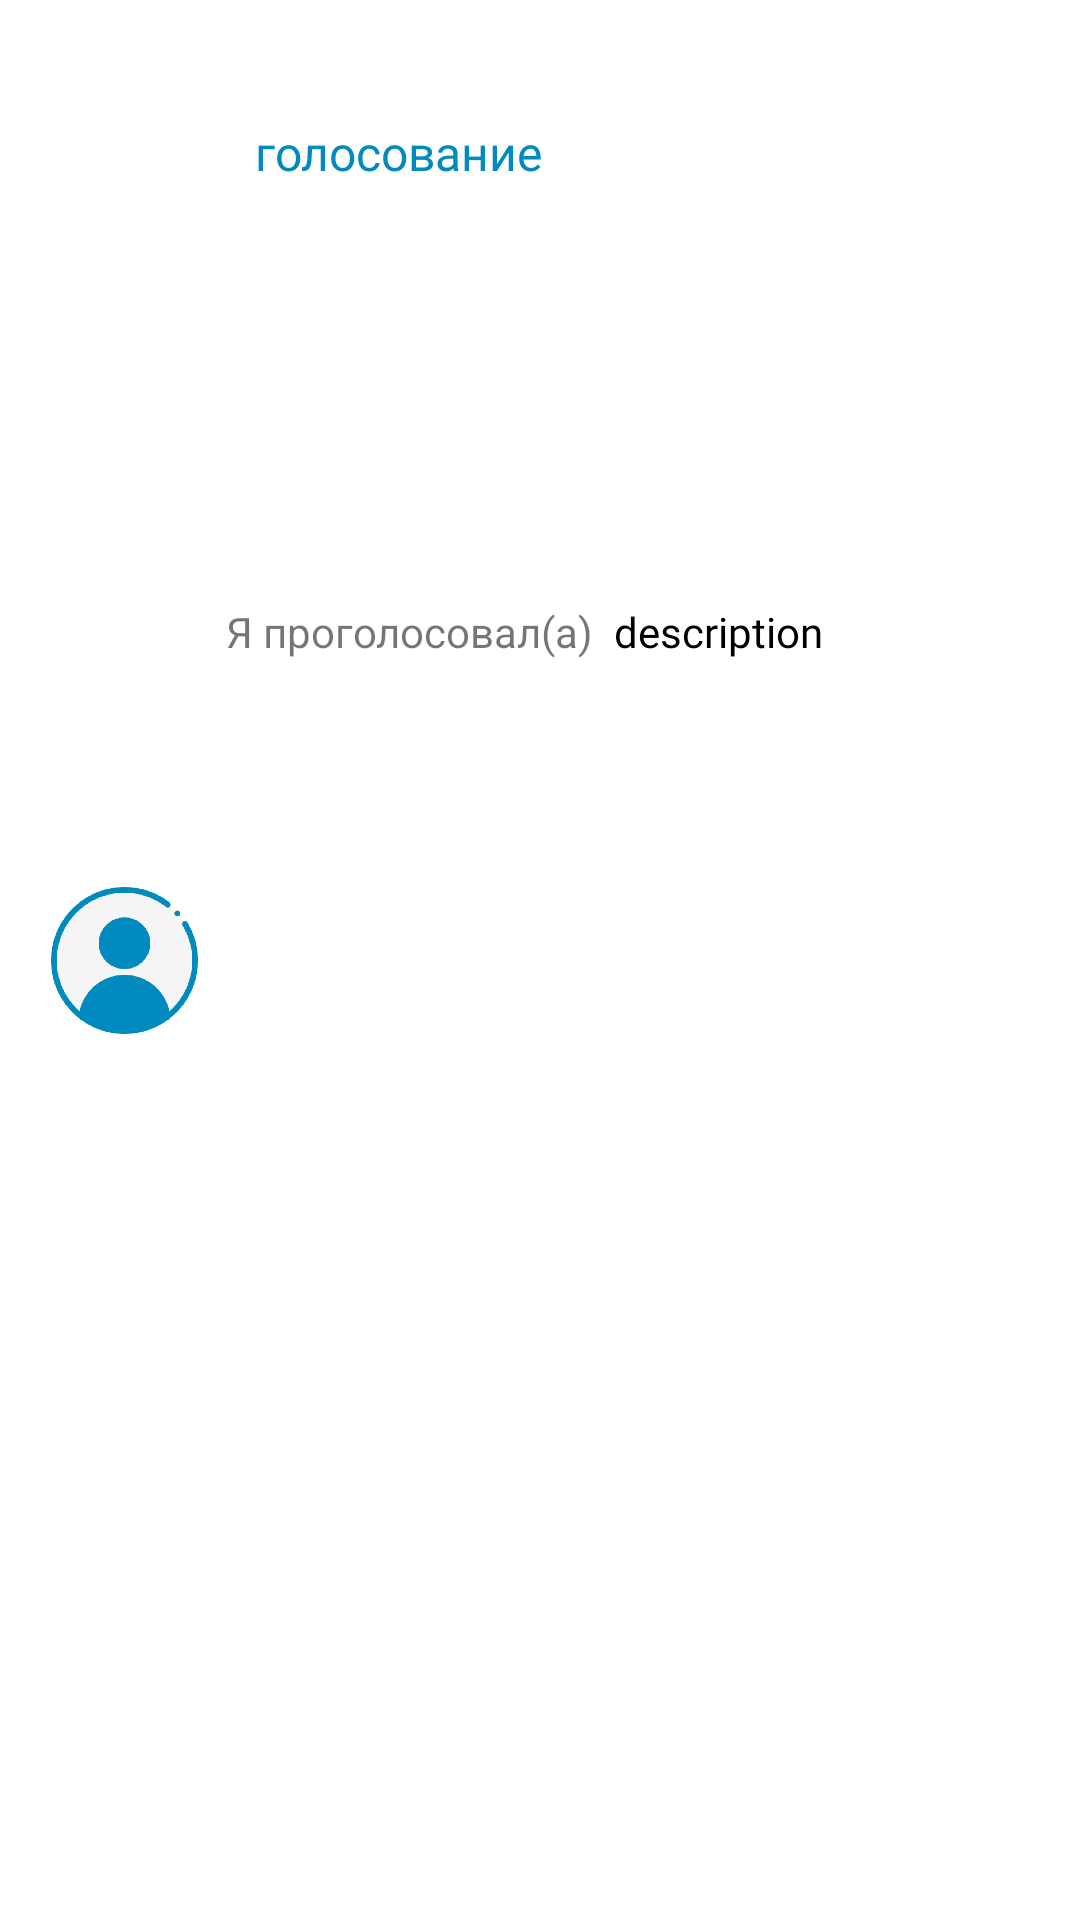

Named icons in this screenshot (1080×1920) and their centers, (x=x, y=y):
profile: (x=124, y=960)
